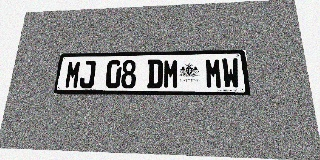0: (105, 60, 122, 89)
8: (120, 60, 137, 89)
D: (147, 59, 163, 89)
J: (79, 60, 96, 88)
M: (205, 58, 223, 89), (64, 61, 82, 88), (163, 59, 179, 89)
W: (221, 58, 241, 89)
